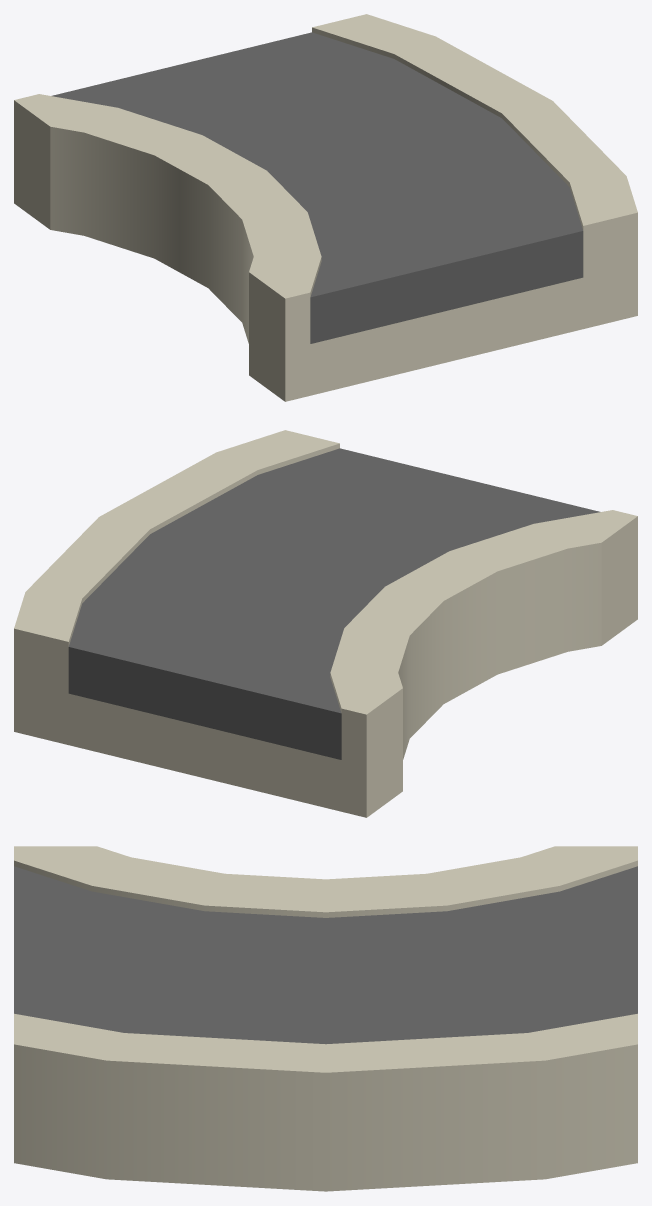
File: tile146.obj
3 views of the same model, one above another, from view 1: azimuth 30°, elevation 25°; view 2: azimuth 150°, elevation 25°; view 3: azimuth 270°, elevation 25° (orthographic). The views are drawn at different scales.
Visible parts, largest first — view 1: tile146; view 2: tile146; view 3: tile146.
Boxes of the visible parts, box(x1,y1,x2,y2) form: tile146: box(14, 14, 637, 401); tile146: box(14, 430, 637, 817); tile146: box(14, 846, 637, 1191).
Size of the model in its own units: 0.8585 by 0.21 by 1.
